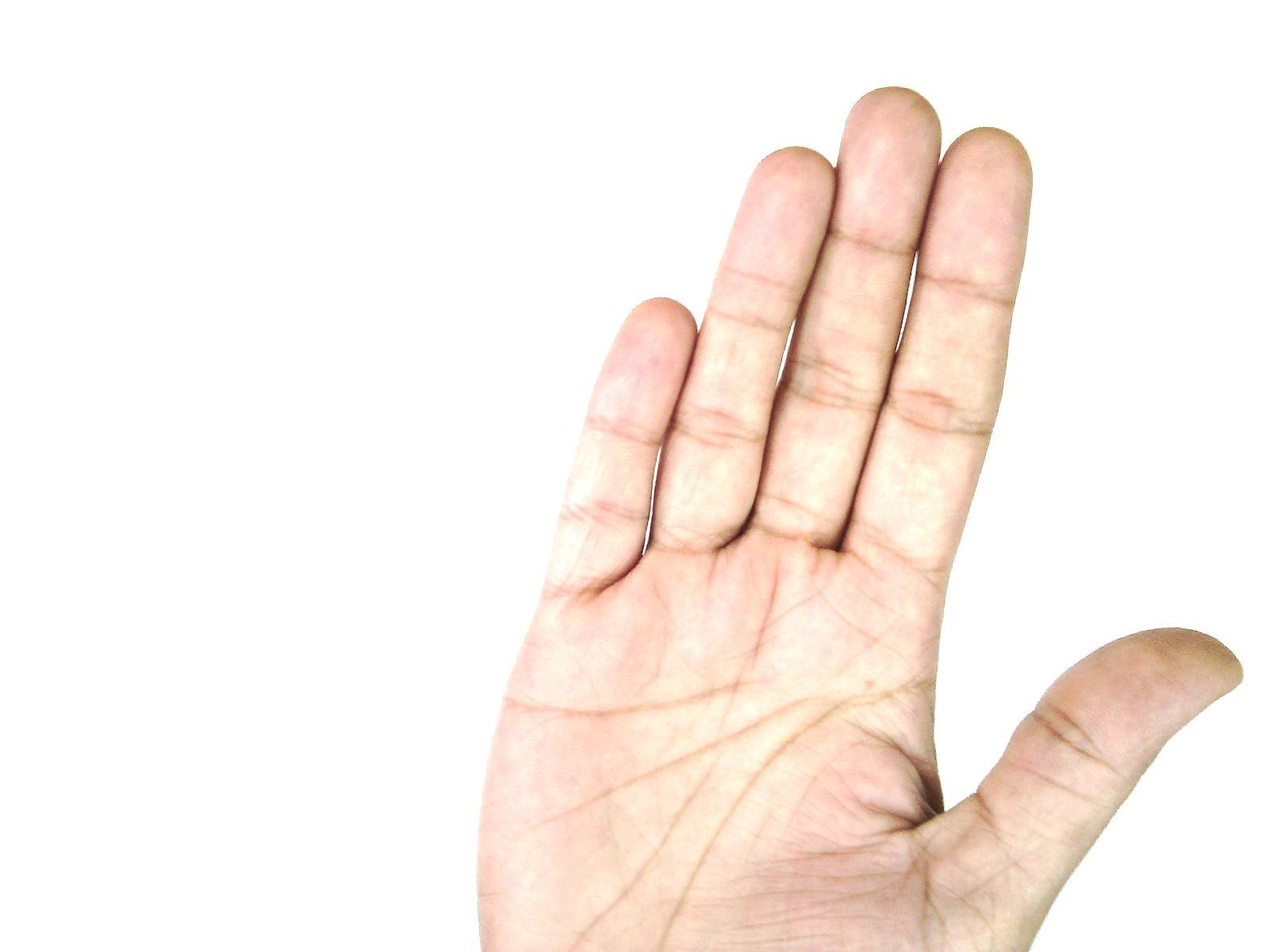open_palm: (472, 86, 1245, 951)
